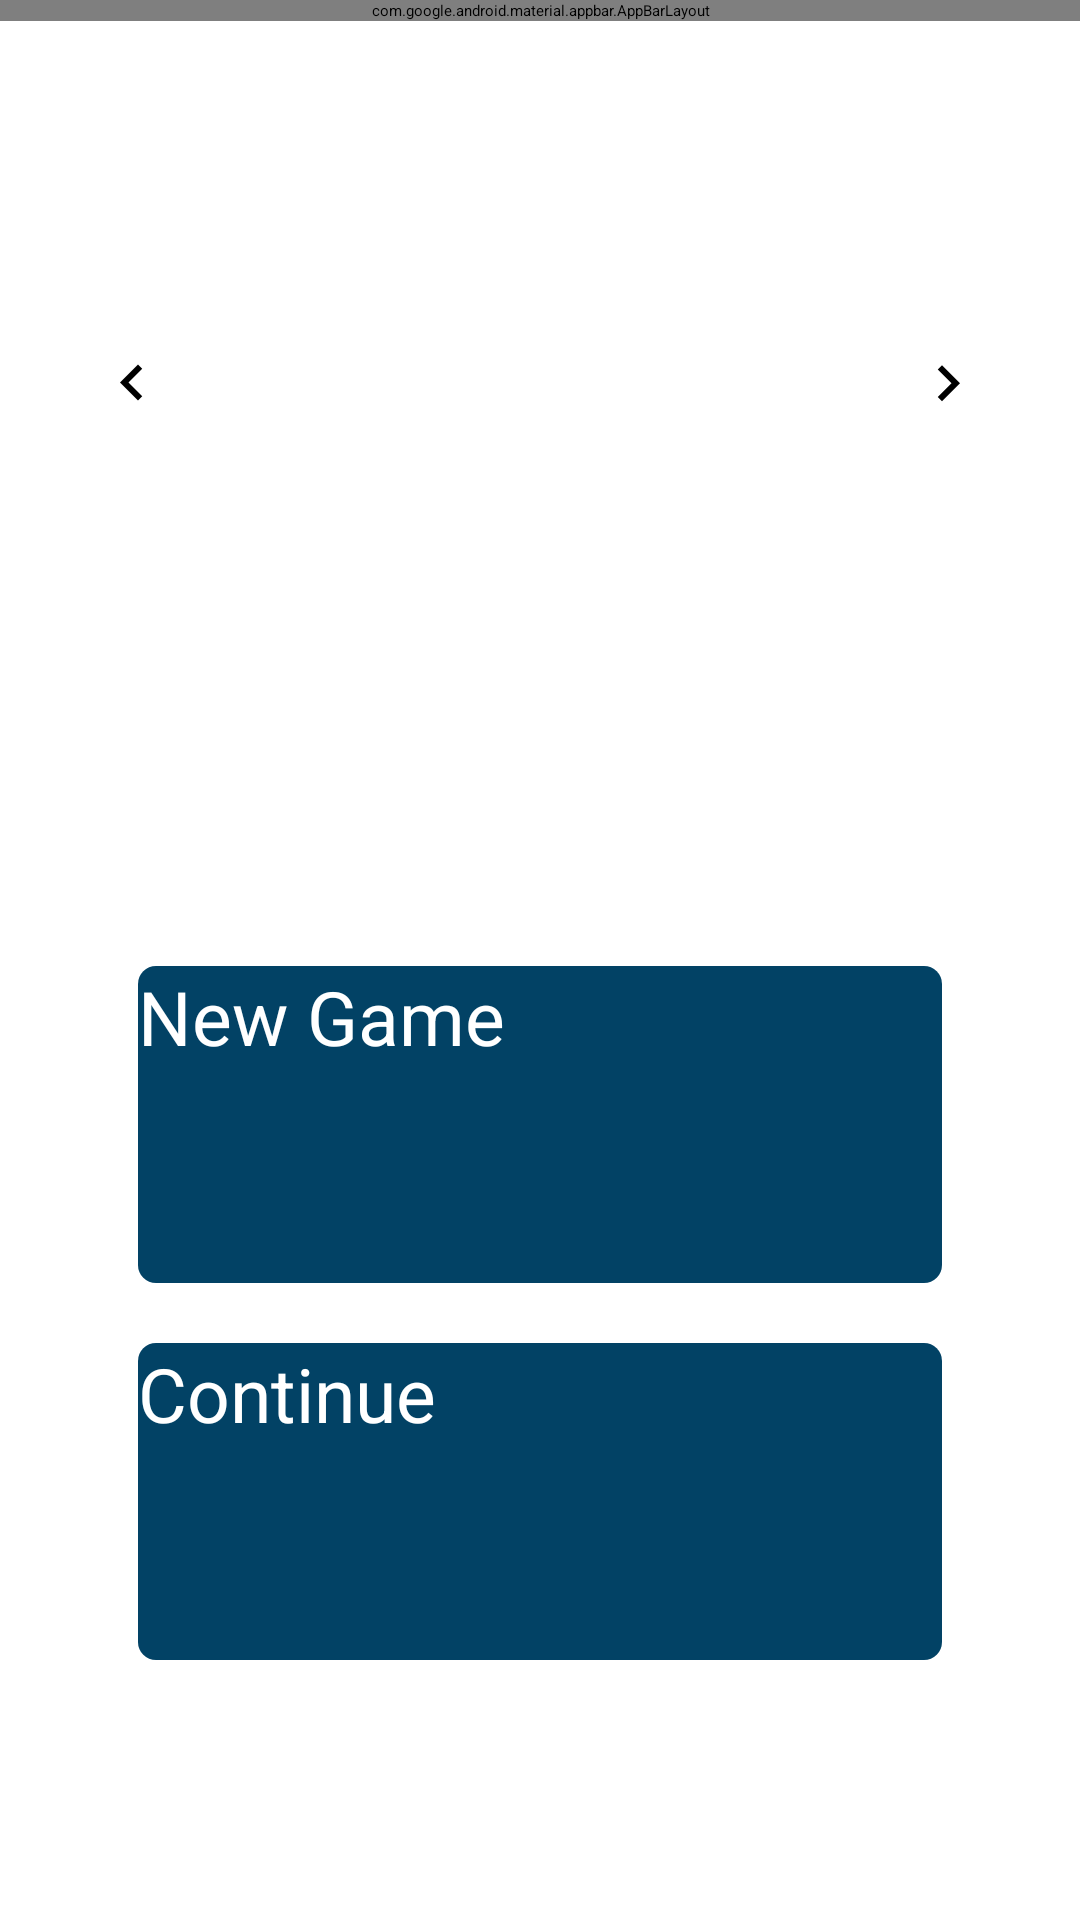

Where to tap for icons on this 1080x1920 app screen, as [x,y]:
keyboard arrow left: [131,382]
keyboard arrow right: [949,383]
